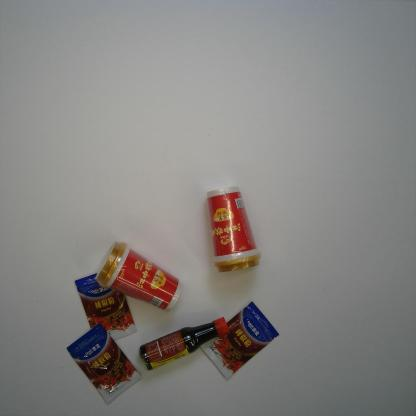Instant Drink: (94, 240, 184, 312), (206, 186, 263, 273)
Seasoner: (200, 300, 280, 380), (66, 323, 142, 404), (137, 316, 231, 372), (74, 272, 138, 341)
